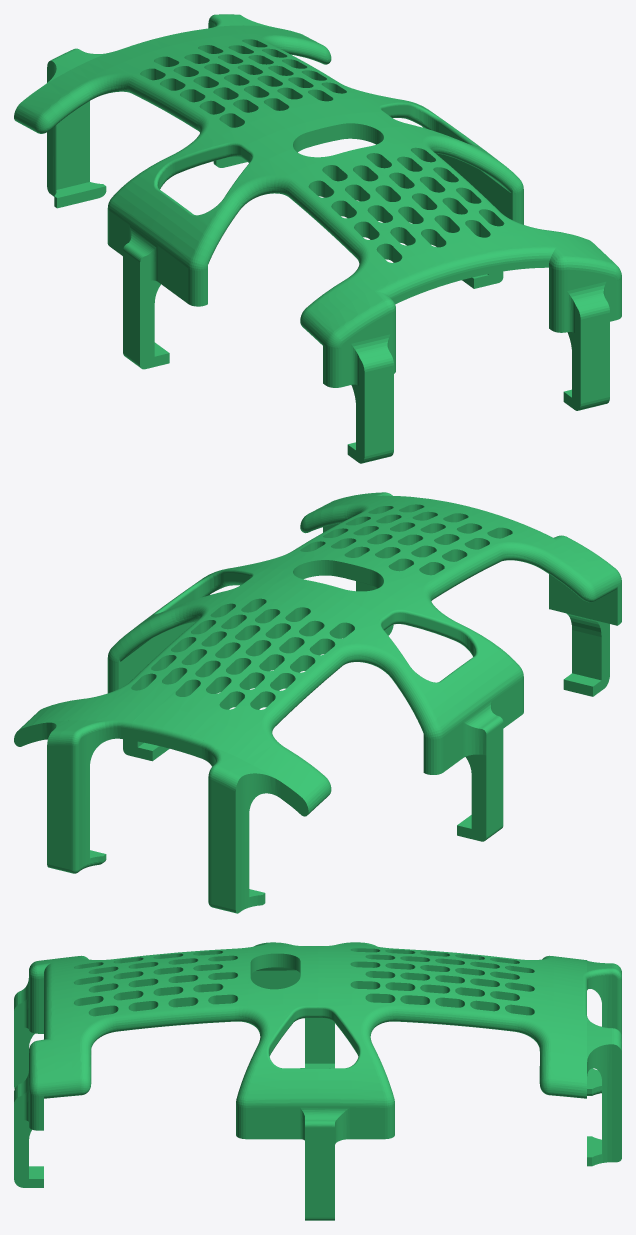
Rendered from Shell.glb.
3 views of the same model, one above another, from view 1: azimuth 30°, elevation 25°; view 2: azimuth 150°, elevation 25°; view 3: azimuth 270°, elevation 25° (orthographic). The views are drawn at different scales.
Visible parts, largest first — view 1: Shell.stl; view 2: Shell.stl; view 3: Shell.stl.
Boxes of the visible parts, <box> form: Shell.stl: <box>14,14,621,463</box>; Shell.stl: <box>14,492,621,913</box>; Shell.stl: <box>14,942,621,1220</box>.
Size of the model in its own units: 74 by 39 by 122.
